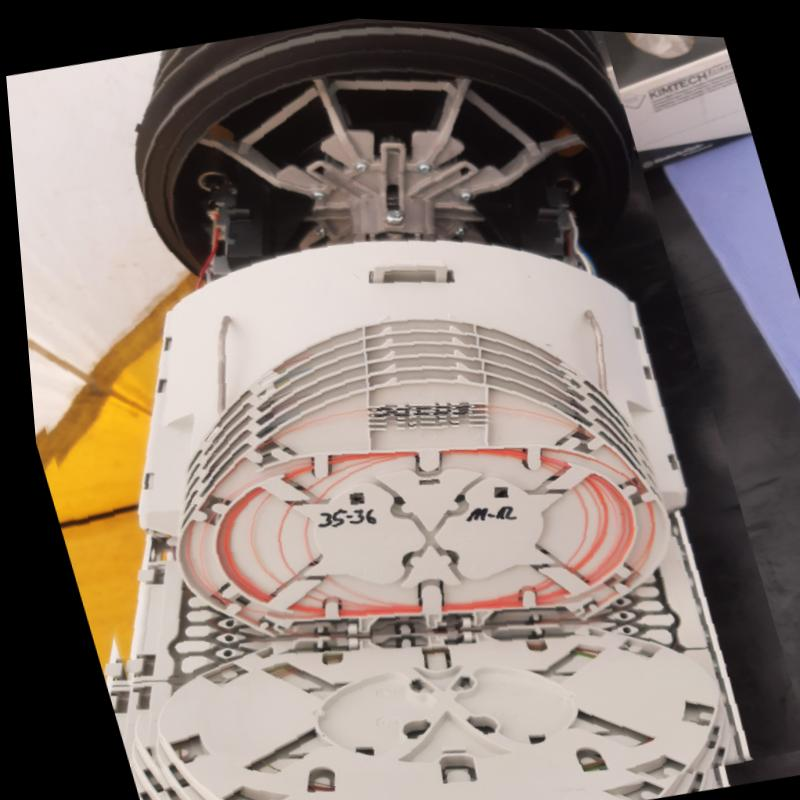NT-Muffen: (107, 15, 731, 800)
